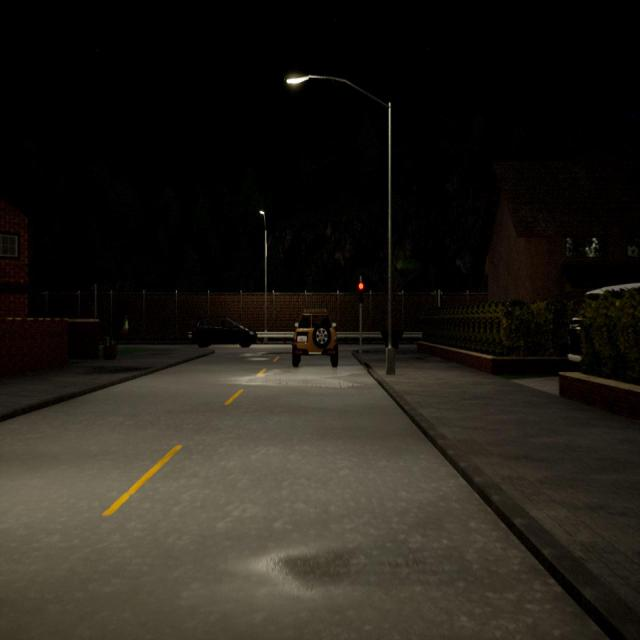Vehicle: (292, 308, 340, 367), (194, 318, 257, 348)
traffic_light: (358, 283, 364, 303)
